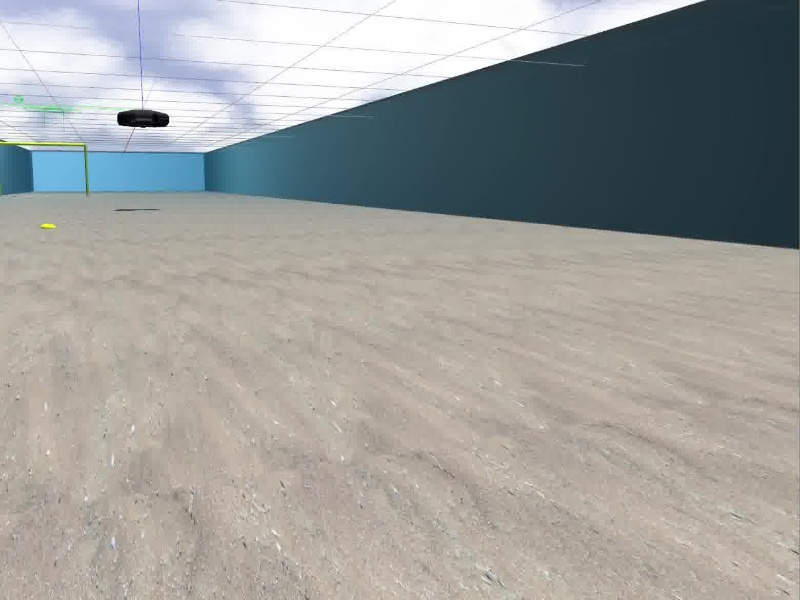gate: (1, 140, 90, 198)
